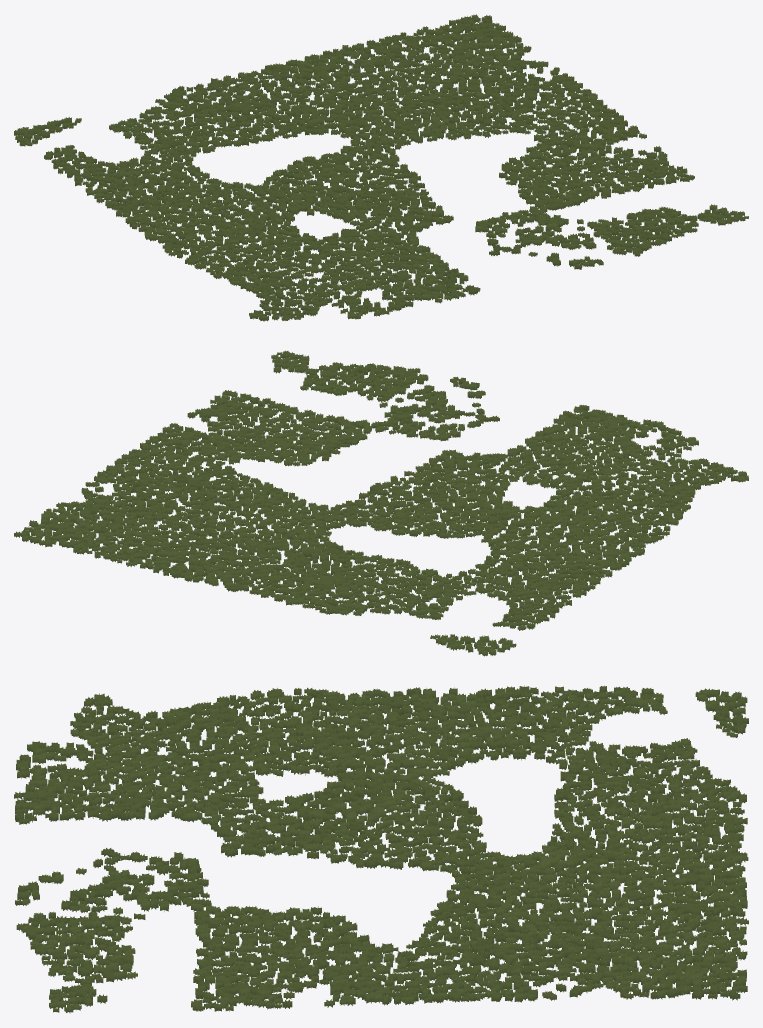
The model's file is TRB8-GRASS-CHUNK-6-4.glb.
3 views of the same model, one above another, from view 1: azimuth 30°, elevation 25°; view 2: azimuth 150°, elevation 25°; view 3: azimuth 270°, elevation 25° (orthographic). The views are drawn at different scales.
Parts seen in each view (by area): view 1: TRB8-GRASS-CHUNK-6-4; view 2: TRB8-GRASS-CHUNK-6-4; view 3: TRB8-GRASS-CHUNK-6-4.
Part boxes in pixels (x1,y1,x2,y2): TRB8-GRASS-CHUNK-6-4: (14,14,748,321); TRB8-GRASS-CHUNK-6-4: (14,350,748,656); TRB8-GRASS-CHUNK-6-4: (14,685,748,1013).
Bounding box in the file's own units: 40.54 × 1.32 × 40.48.
1 material, 1 textured.
